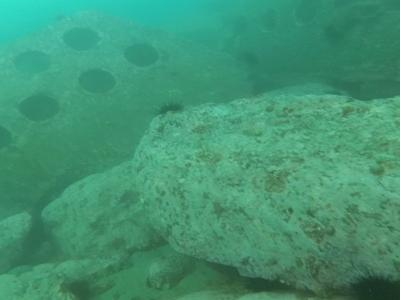urchin: (347, 267, 396, 296), (159, 101, 184, 114)
